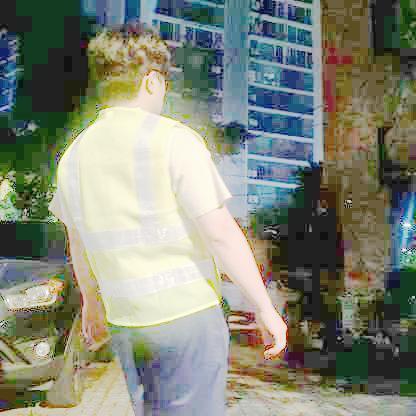no-helmet: (90, 22, 169, 101)
vest: (55, 105, 225, 328)
